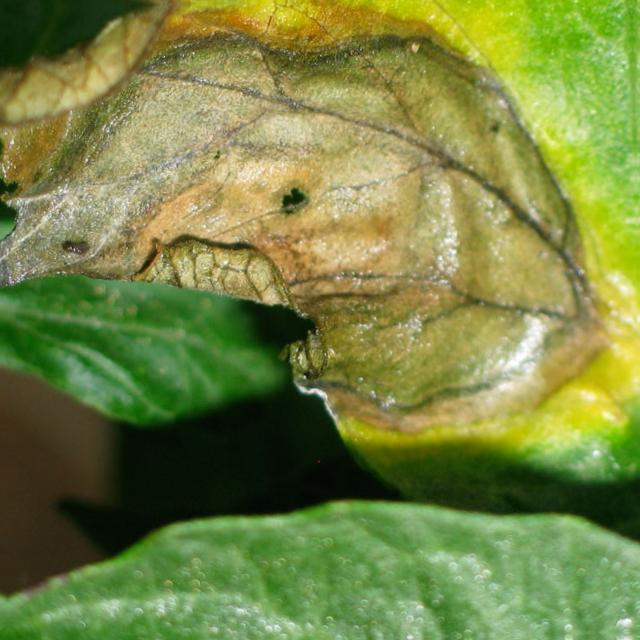Tomato leaf late blight: (0, 0, 640, 619)
